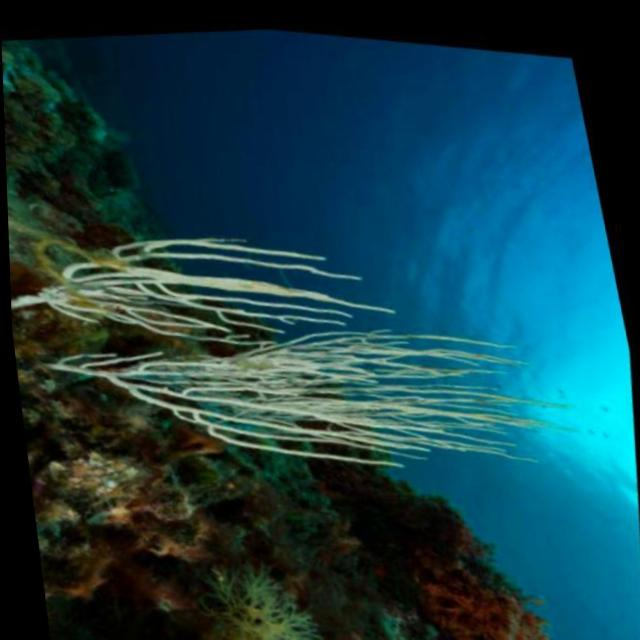Dead Coral: (4, 139, 624, 550)
